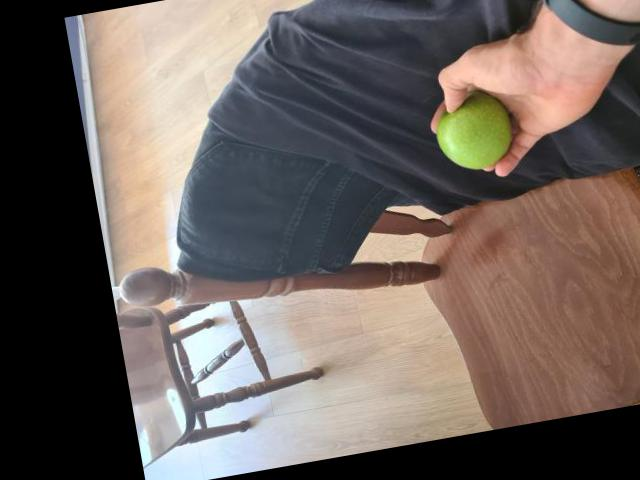apple: (433, 96, 518, 178)
